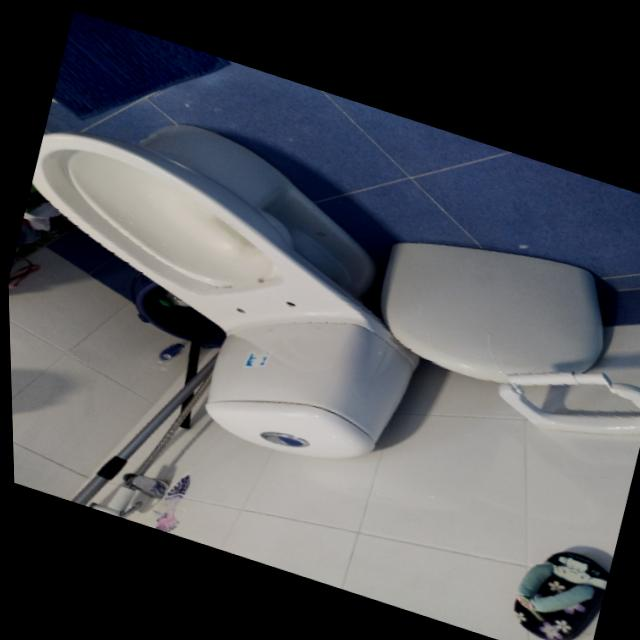toilet: (2, 77, 461, 487)
